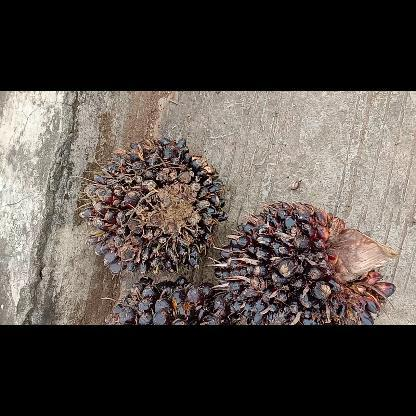TBS mentah: (213, 198, 401, 324), (77, 134, 231, 276), (102, 274, 235, 324)
